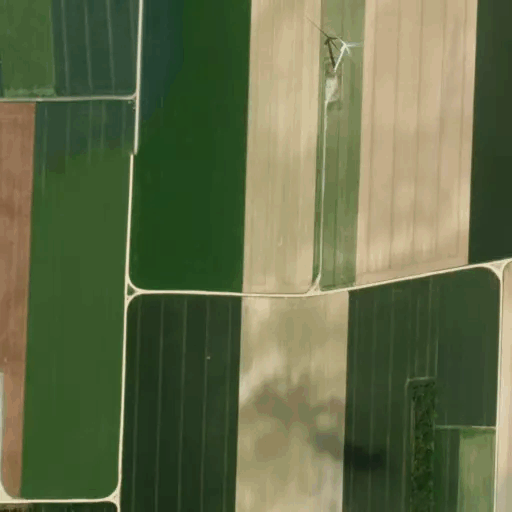wt: (310, 16, 360, 91)
